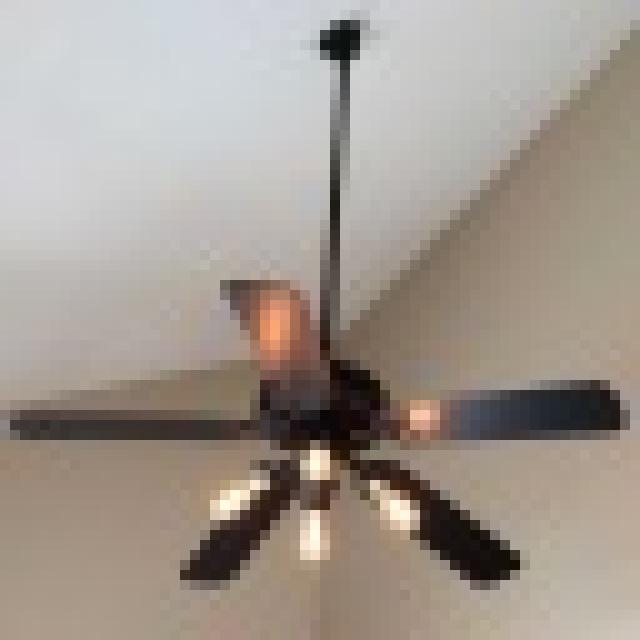Bulb: (5, 247, 640, 609)
